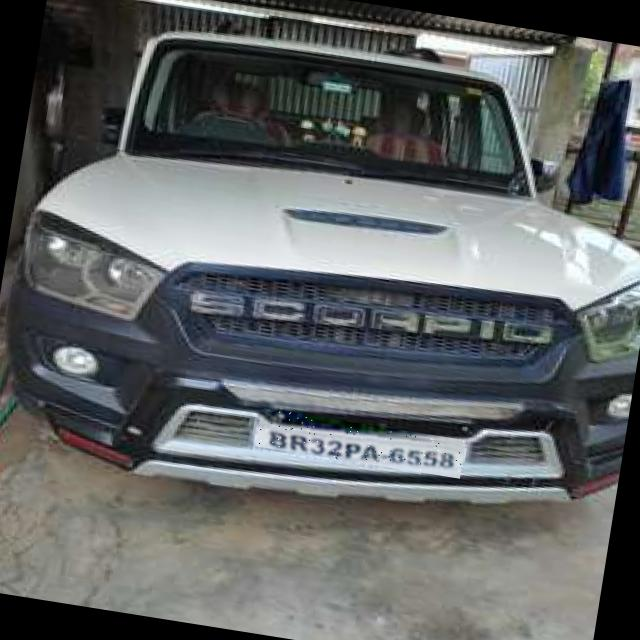Plate: (256, 409, 467, 480)
